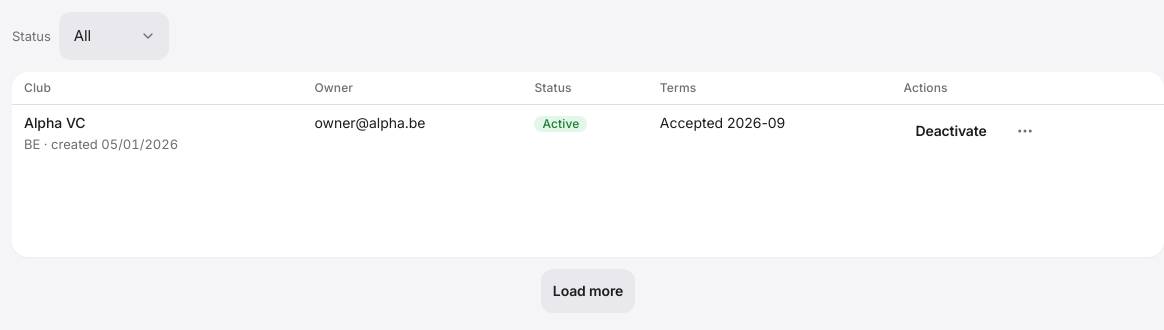
ClubsTable › loads more with the cursor when hasMore
This screenshot has width=1164, height=330.
Click the button "Load more": x=588, y=291 left=541, top=269, right=635, bottom=313
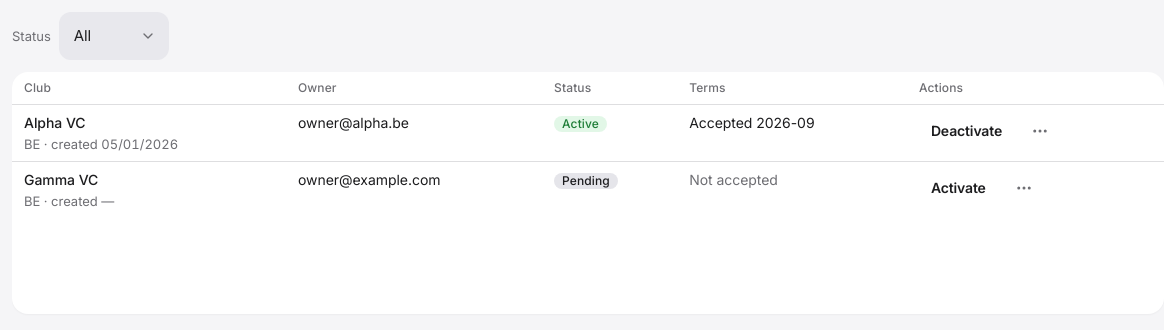
Expected: the column heading "Alpha VC" is shown, left=24, top=114, right=86, bottom=131
Result: the column heading "Gamma VC" is shown at left=24, top=171, right=98, bottom=188
Result: the button "Load more" is gone
